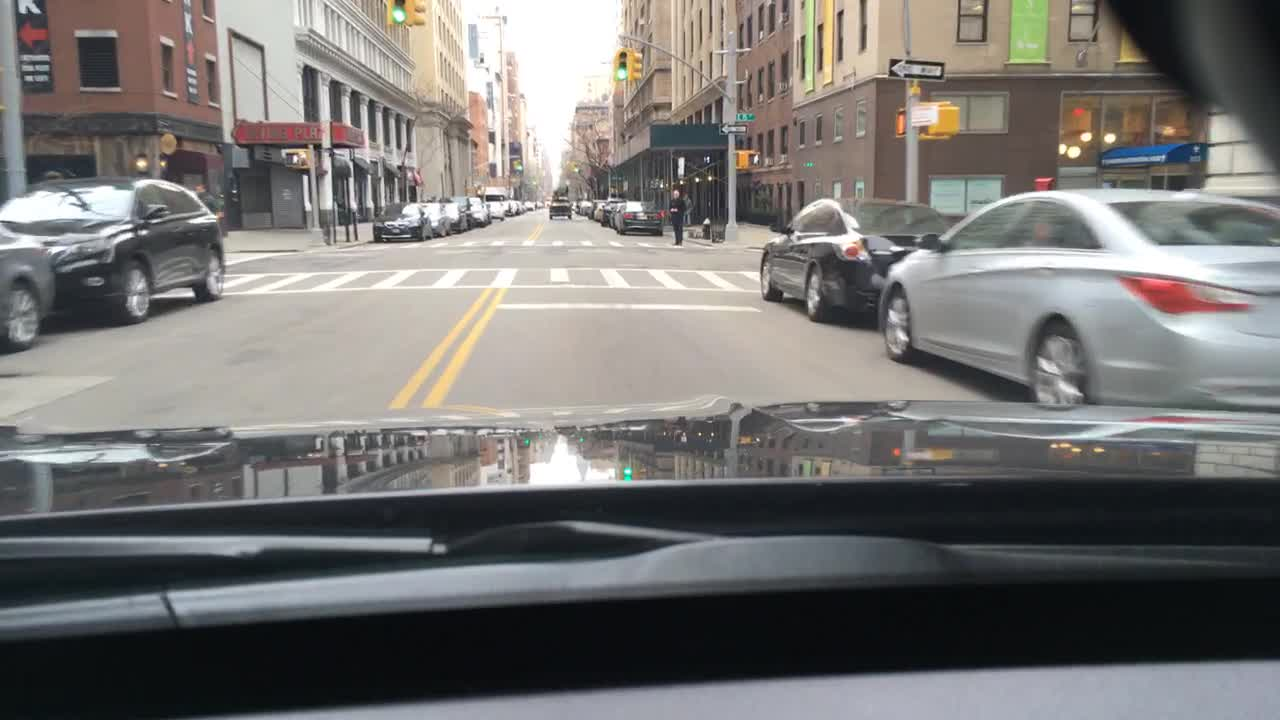car: (877, 184, 1280, 411), (0, 175, 225, 319), (758, 195, 954, 320), (1, 218, 53, 353), (372, 202, 434, 241), (1191, 184, 1280, 210), (616, 199, 665, 233), (420, 202, 449, 238), (444, 199, 472, 231), (470, 195, 490, 225), (598, 196, 619, 224), (550, 195, 573, 219), (486, 199, 506, 218), (589, 199, 604, 218), (573, 198, 589, 211), (510, 199, 526, 211), (527, 196, 540, 207), (543, 195, 552, 207)
person: (192, 182, 225, 237), (669, 187, 688, 245)
traffic light: (933, 105, 960, 138), (384, 0, 406, 27), (411, 0, 429, 27), (736, 147, 759, 168), (283, 147, 305, 168), (613, 49, 627, 81), (630, 47, 641, 81), (896, 109, 905, 135), (512, 156, 521, 171), (572, 159, 579, 175)
traffic sign: (890, 53, 945, 81), (718, 119, 748, 135), (735, 110, 754, 122)
